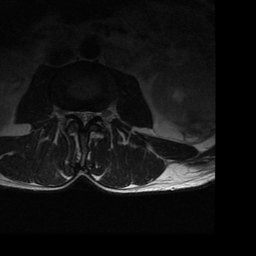CCS_stenosis: (82, 106, 88, 130)
LFS_severe_stenosis: (94, 105, 99, 122)
LLS_stenosis: (88, 106, 93, 124)
RFS_severe_stenosis: (70, 105, 76, 123)
RLS_stenosis: (76, 106, 82, 123)
